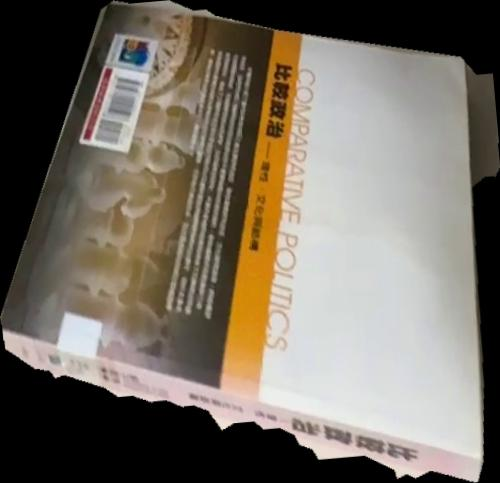flat: (1, 1, 500, 483)
